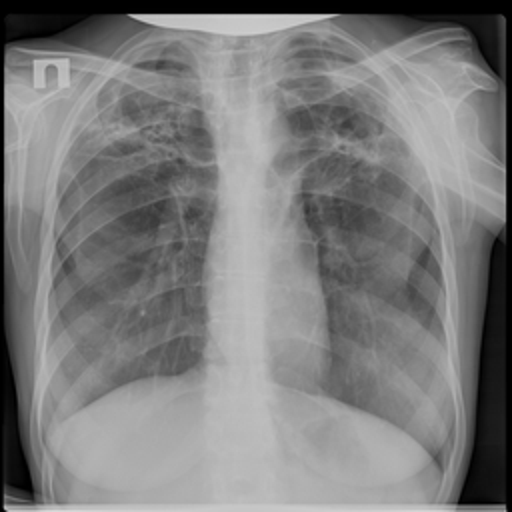TB: (86, 110, 192, 179), (299, 107, 390, 186)
